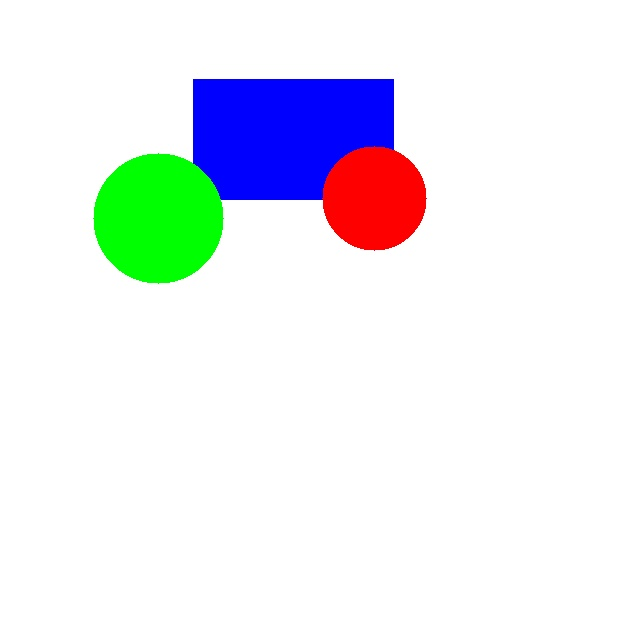cartao: (193, 79, 393, 199)
rosca_externa: (93, 153, 223, 283)
rosca_interna: (322, 146, 426, 250)
